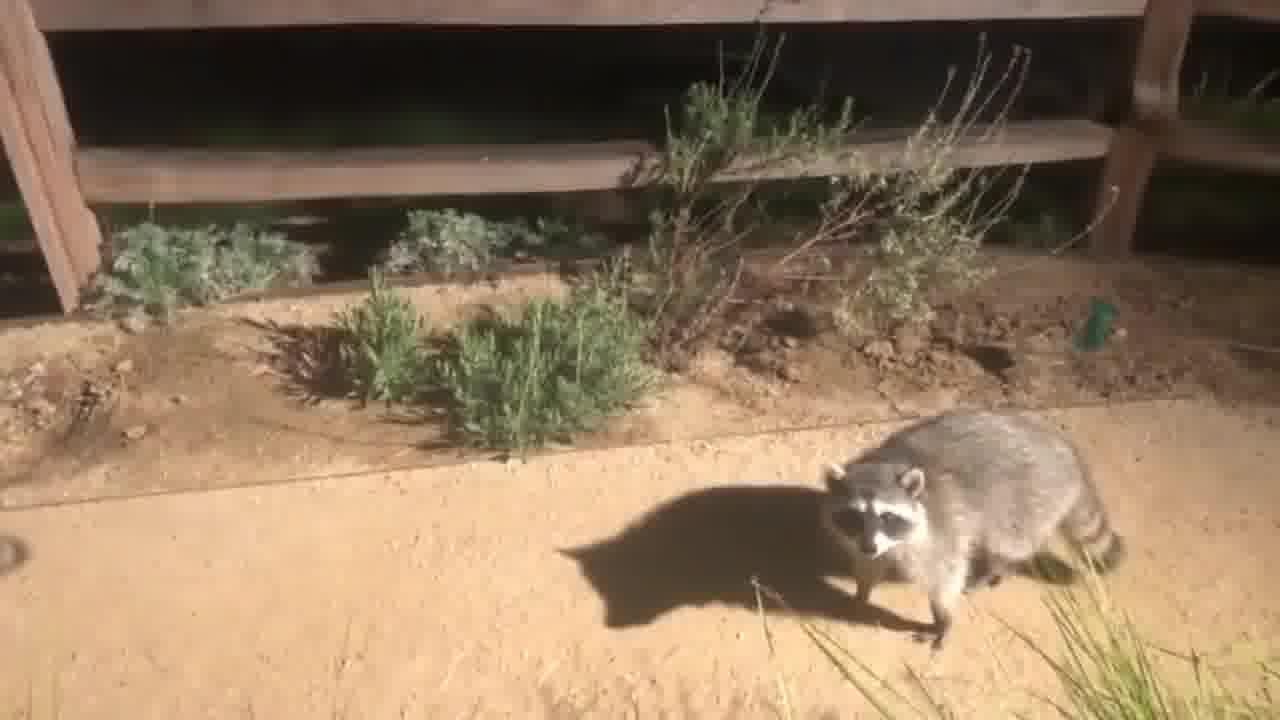raccoon: (808, 394, 1133, 658), (0, 526, 38, 583)
